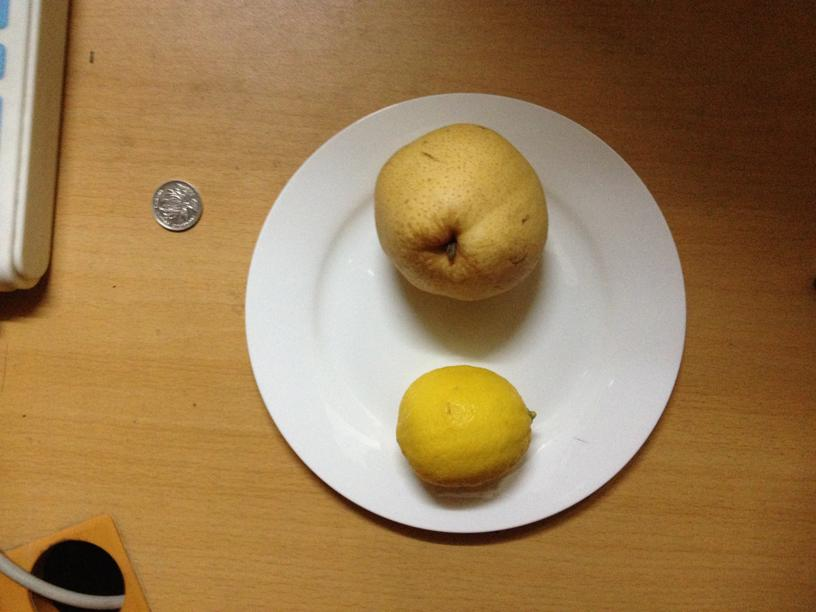coin: (149, 181, 201, 230)
lemon: (395, 366, 529, 487)
pear: (370, 122, 548, 298)
